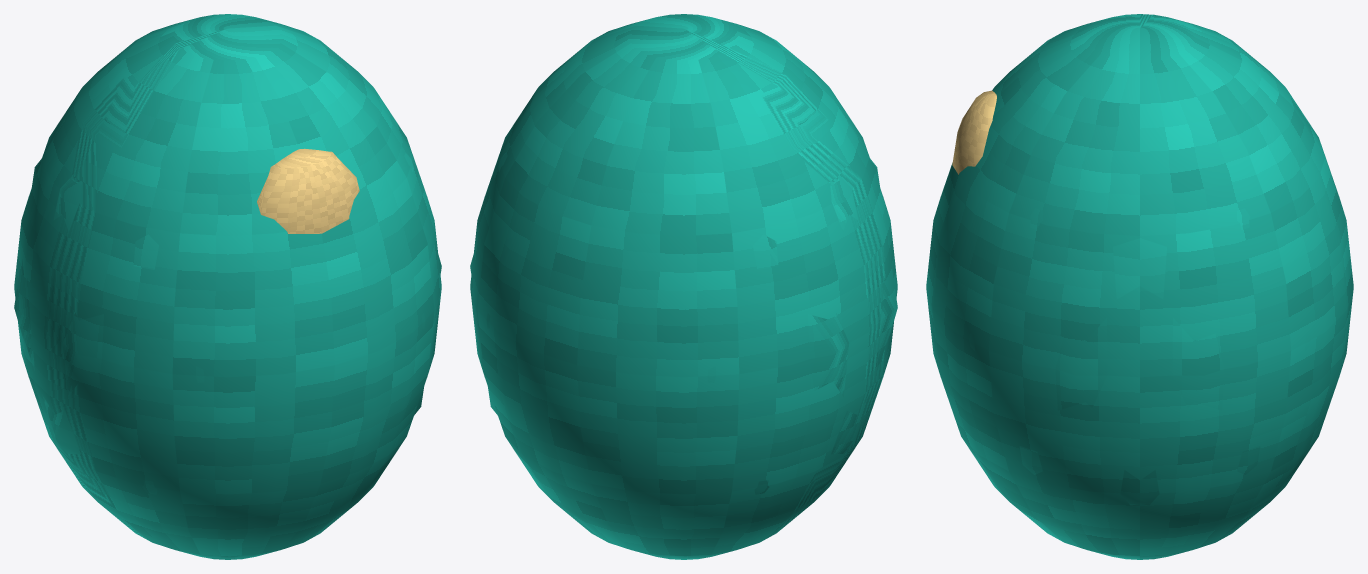
File: CHR_Virela.glb
3 views of the same model, side by side, from view 1: azimuth 30°, elevation 25°; view 2: azimuth 150°, elevation 25°; view 3: azimuth 270°, elevation 25° (orthographic).
Visible parts, largest first — view 1: VIS_CHR_Virela_LOD0, COL_CHR_Virela_Hull, VIS_CHR_Virela_Crest; view 2: VIS_CHR_Virela_LOD0, COL_CHR_Virela_Hull; view 3: VIS_CHR_Virela_LOD0, COL_CHR_Virela_Hull, VIS_CHR_Virela_Crest.
Boxes of the visible parts, left/top/right/bottom form: VIS_CHR_Virela_LOD0: left=14, top=14, right=441, bottom=559; COL_CHR_Virela_Hull: left=14, top=152, right=441, bottom=494; VIS_CHR_Virela_Crest: left=257, top=148, right=359, bottom=233; VIS_CHR_Virela_LOD0: left=470, top=14, right=897, bottom=559; COL_CHR_Virela_Hull: left=470, top=152, right=897, bottom=494; VIS_CHR_Virela_LOD0: left=926, top=14, right=1353, bottom=559; COL_CHR_Virela_Hull: left=969, top=208, right=1310, bottom=505; VIS_CHR_Virela_Crest: left=952, top=90, right=996, bottom=174.
Size of what is drawn, in the model's own units: 0.9 by 1.2 by 0.9.
Materials: 2 (2 with a texture image).
